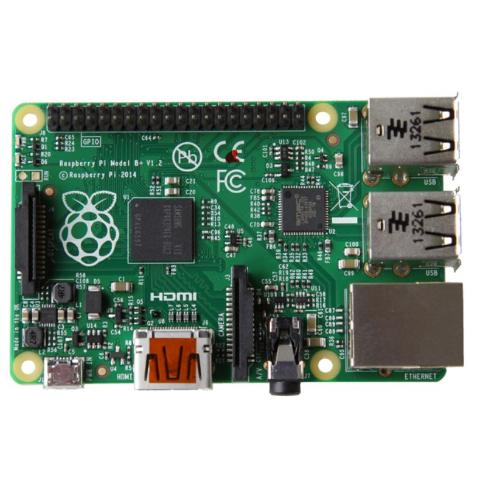Raspberry-Pi-1-Model-B-: (6, 86, 468, 398)
